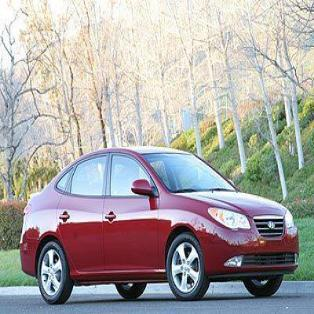Auto: (18, 146, 301, 303)
